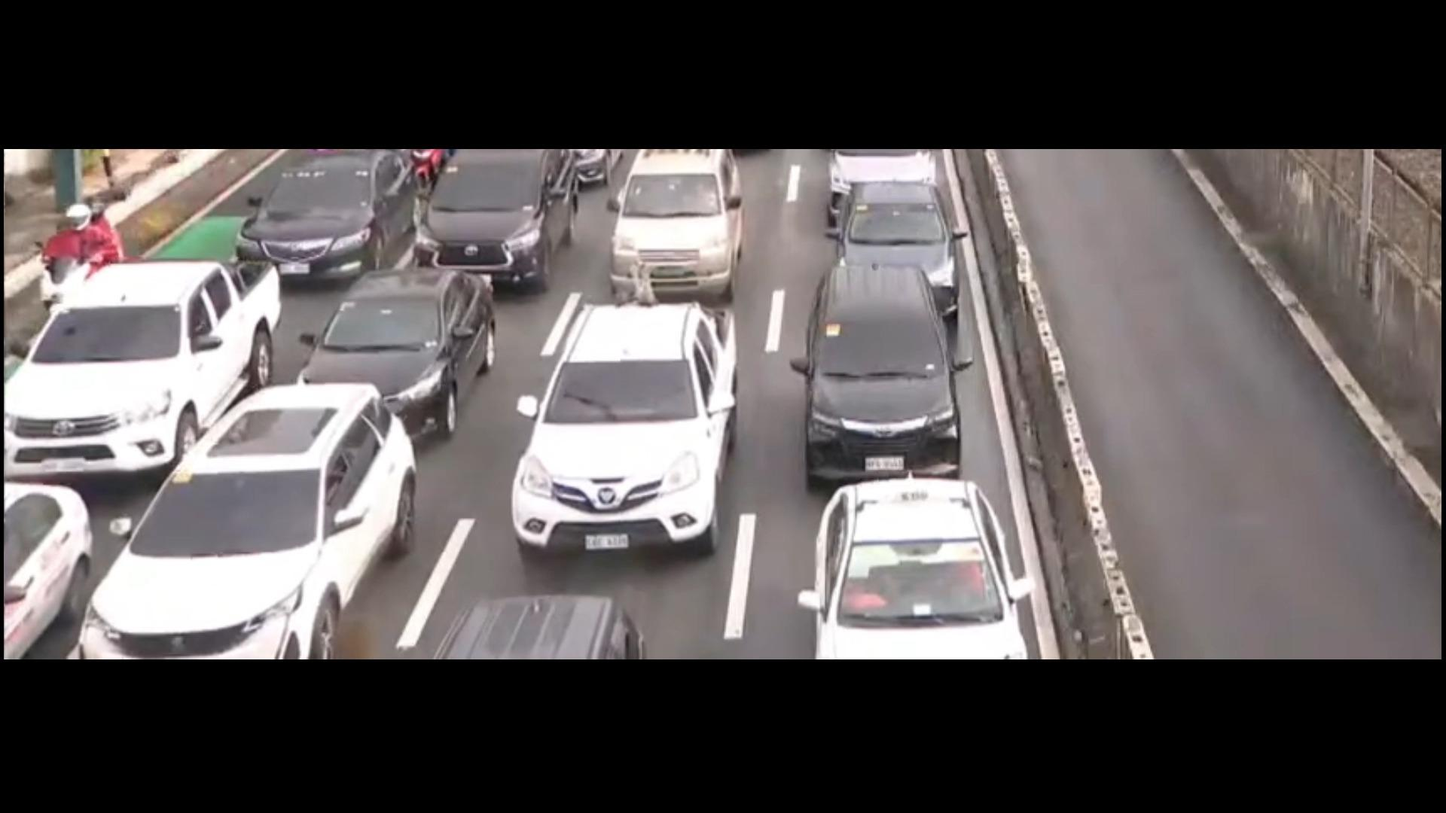Motorcycle: (42, 196, 149, 315)
Pickup: (492, 273, 767, 587), (6, 245, 298, 480)
SUV: (73, 369, 439, 664), (778, 262, 968, 496), (217, 149, 432, 276), (822, 170, 970, 312)
Sedan: (277, 247, 512, 449), (801, 460, 1028, 660)
Van: (403, 149, 592, 295), (609, 147, 757, 307)
